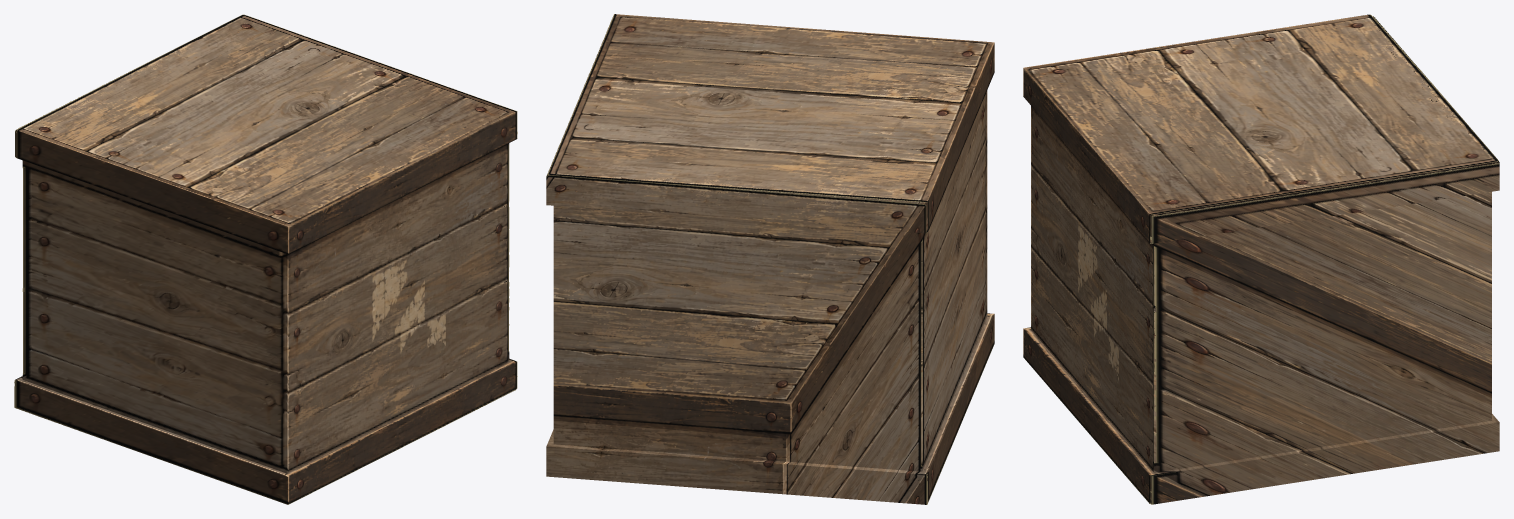
The model's file is crate.glb.
3 renders of one model, left to right at view 1: azimuth 30°, elevation 25°; view 2: azimuth 150°, elevation 25°; view 3: azimuth 270°, elevation 25°, orthographic. The views are drawn at different scales.
Parts seen in each view (by area): view 1: crate_game; view 2: crate_game; view 3: crate_game.
Part boxes in pixels (x1,y1,x2,y2): crate_game: (14, 14, 517, 504); crate_game: (546, 14, 994, 504); crate_game: (1023, 14, 1499, 504).
Size of the model in its own units: 1.19 by 0.8 by 1.19.
Materials: 1 (1 with a texture image).
